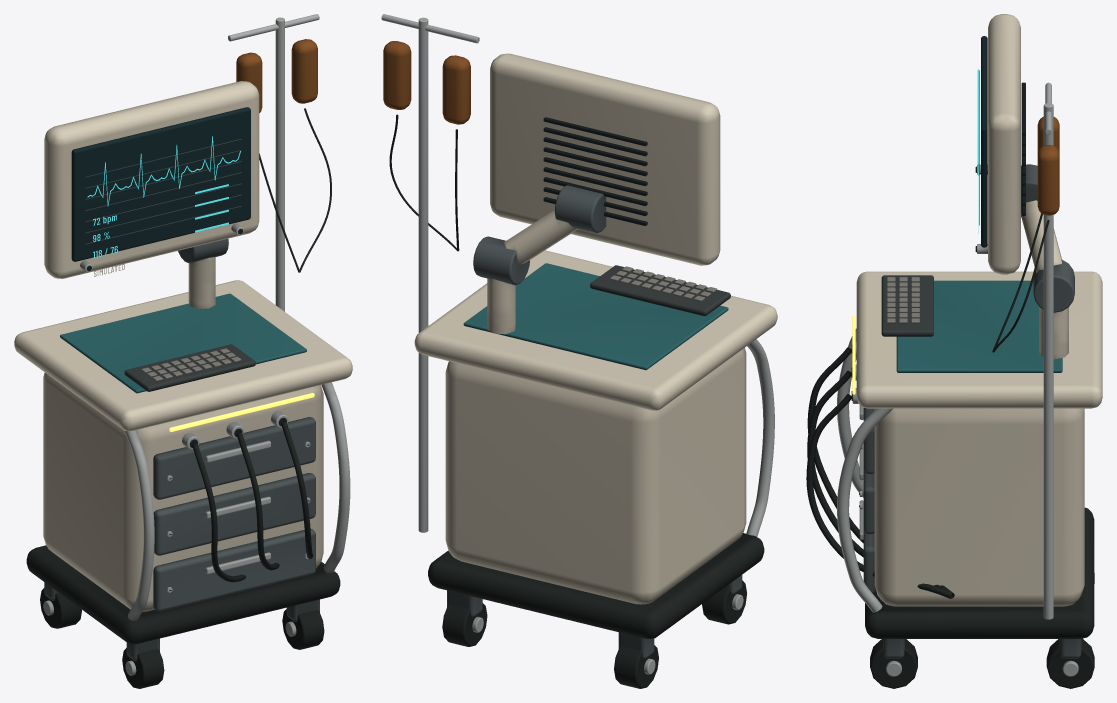
File: equipment-standard.glb
3 views of the same model, side by side, from view 1: azimuth 30°, elevation 25°; view 2: azimuth 150°, elevation 25°; view 3: azimuth 270°, elevation 25° (orthographic). The views are drawn at different scales.
Parts seen in each view (by area): view 1: equipment__Ceramic medical shell, equipment__Recessed titanium panels, equipment__Dark optical glass, equipment__Restraint webbing, equipment__Satin aluminium, equipment__Medical upholstery, equipment__Amber supply vial, equipment__Coated pressure frame, equipment__Instrument display ink, equipment__Graphite enamel, equipment__Warm service practical; view 2: equipment__Ceramic medical shell, equipment__Restraint webbing, equipment__Medical upholstery, equipment__Satin aluminium, equipment__Recessed titanium panels, equipment__Recess and gasket, equipment__Amber supply vial, equipment__Coated pressure frame, equipment__Graphite enamel; view 3: equipment__Ceramic medical shell, equipment__Restraint webbing, equipment__Medical upholstery, equipment__Satin aluminium, equipment__Recessed titanium panels, equipment__Coated pressure frame, equipment__Amber supply vial, equipment__Dark optical glass, equipment__Graphite enamel, equipment__Recess and gasket.
Part boxes in pixels (bbox=[...]): equipment__Ceramic medical shell: bbox=[14, 81, 352, 611]; equipment__Recessed titanium panels: bbox=[44, 139, 319, 661]; equipment__Dark optical glass: bbox=[71, 107, 250, 261]; equipment__Restraint webbing: bbox=[26, 108, 340, 688]; equipment__Satin aluminium: bbox=[43, 14, 350, 675]; equipment__Medical upholstery: bbox=[60, 293, 306, 393]; equipment__Amber supply vial: bbox=[236, 39, 317, 112]; equipment__Coated pressure frame: bbox=[124, 344, 255, 391]; equipment__Instrument display ink: bbox=[87, 136, 240, 258]; equipment__Graphite enamel: bbox=[141, 348, 241, 381]; equipment__Warm service practical: bbox=[169, 393, 314, 431]; equipment__Ceramic medical shell: bbox=[414, 53, 777, 604]; equipment__Restraint webbing: bbox=[389, 114, 764, 688]; equipment__Medical upholstery: bbox=[463, 263, 728, 370]; equipment__Satin aluminium: bbox=[381, 14, 774, 674]; equipment__Recessed titanium panels: bbox=[447, 185, 742, 659]; equipment__Recess and gasket: bbox=[543, 117, 647, 225]; equipment__Amber supply vial: bbox=[383, 41, 470, 124]; equipment__Coated pressure frame: bbox=[590, 265, 730, 316]; equipment__Graphite enamel: bbox=[610, 266, 717, 301]; equipment__Ceramic medical shell: bbox=[856, 14, 1102, 606]; equipment__Restraint webbing: bbox=[806, 213, 1094, 688]; equipment__Medical upholstery: bbox=[896, 280, 1062, 372]; equipment__Satin aluminium: bbox=[837, 82, 1078, 676]; equipment__Recessed titanium panels: bbox=[863, 70, 1081, 658]; equipment__Coated pressure frame: bbox=[881, 275, 933, 336]; equipment__Amber supply vial: bbox=[1037, 116, 1059, 215]; equipment__Dark optical glass: bbox=[981, 36, 987, 247]; equipment__Graphite enamel: bbox=[887, 277, 919, 323]; equipment__Recess and gasket: bbox=[851, 82, 1025, 507].
Size of the model in its own units: 1.32 by 2.42 by 1.07.
